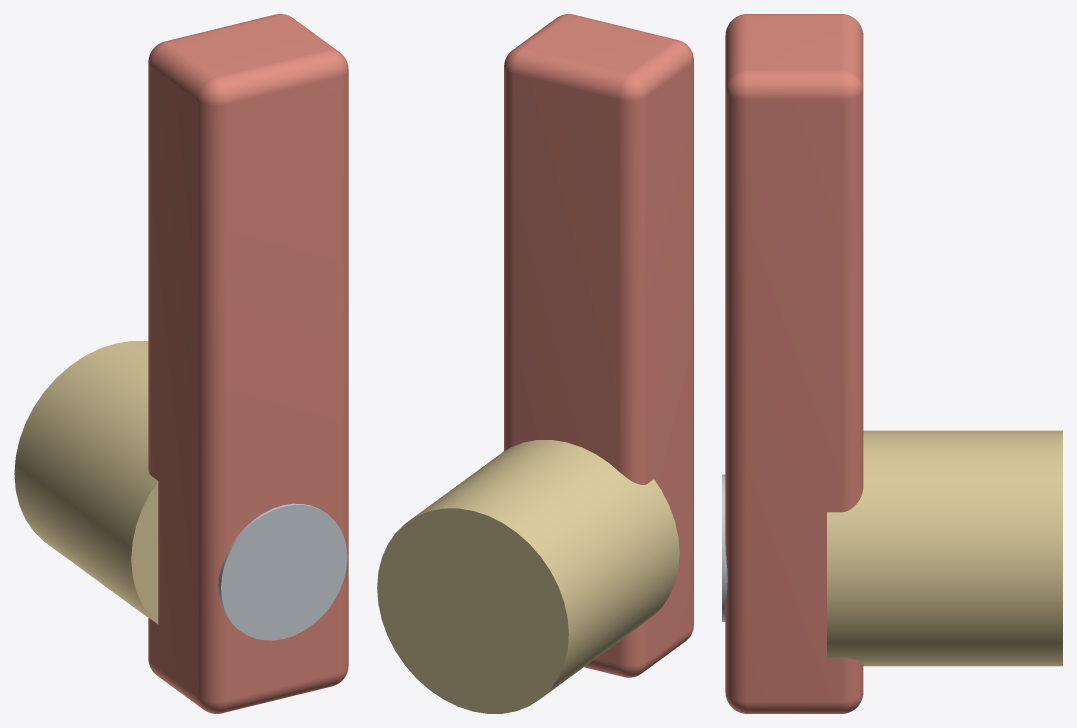
The model's file is STEM_before_axial_clearance.glb.
The picture shows the model from 3 angles, left to right: view 1: azimuth 30°, elevation 25°; view 2: azimuth 150°, elevation 25°; view 3: azimuth 270°, elevation 25°; orthographic projection. The views are drawn at different scales.
Parts seen in each view (by area): view 1: STEM/0001_handle, STEM/0000_spindle, STEM/0002_retaining_bolt; view 2: STEM/0001_handle, STEM/0000_spindle; view 3: STEM/0001_handle, STEM/0000_spindle, STEM/0002_retaining_bolt.
Part boxes in pixels (box(x1,y1,x2,y2)): STEM/0001_handle: box(148, 14, 348, 713); STEM/0000_spindle: box(14, 341, 158, 624); STEM/0002_retaining_bolt: box(218, 503, 347, 640); STEM/0001_handle: box(504, 14, 693, 677); STEM/0000_spindle: box(377, 440, 679, 713); STEM/0001_handle: box(725, 14, 863, 713); STEM/0000_spindle: box(827, 430, 1062, 666); STEM/0002_retaining_bolt: box(722, 474, 727, 621).
Bounding box in the file's own units: 0.032 × 0.096 × 0.0462.
